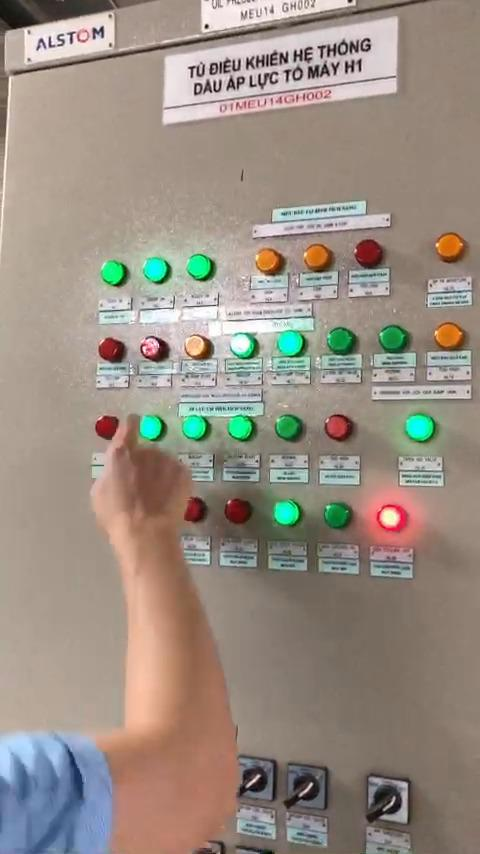led: (350, 236, 388, 270), (430, 231, 466, 266), (319, 499, 354, 534), (428, 320, 464, 354), (404, 411, 438, 444), (177, 411, 210, 445), (92, 334, 129, 364), (135, 412, 167, 445), (220, 498, 254, 529), (184, 251, 215, 284), (325, 325, 356, 358), (324, 411, 355, 444), (377, 504, 410, 535), (180, 335, 212, 366), (273, 413, 304, 444), (223, 414, 254, 445), (227, 330, 259, 360), (299, 243, 333, 271), (97, 260, 127, 291), (91, 414, 122, 444), (377, 324, 408, 353), (273, 330, 306, 357), (137, 334, 168, 362), (177, 492, 208, 520), (254, 248, 283, 276), (142, 255, 170, 284), (274, 499, 301, 529)
twist: (368, 776, 413, 829), (288, 764, 328, 811), (238, 758, 274, 802)
